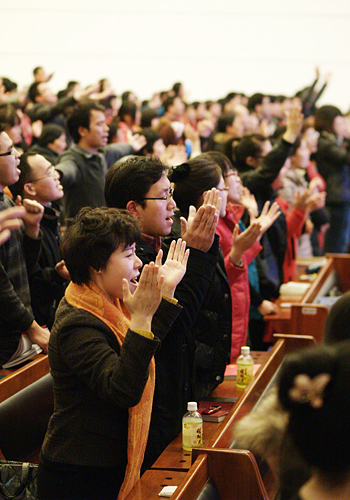handsup: (38, 207, 203, 478)
